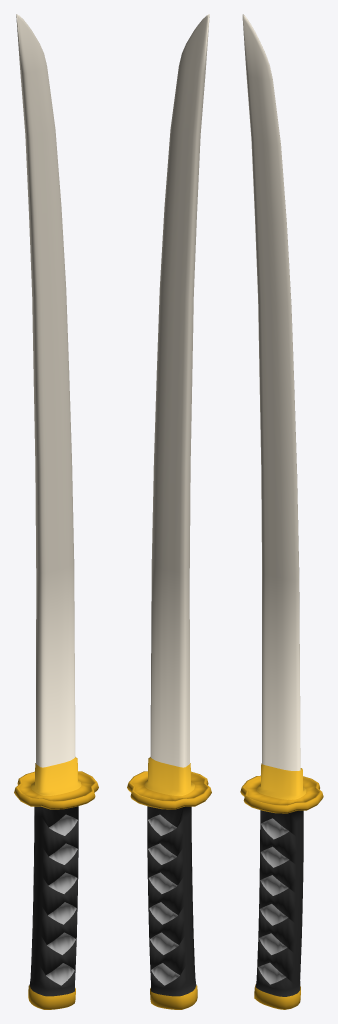
The model's file is Katana.fbx.
The picture shows the model from 3 angles, left to right: view 1: azimuth 30°, elevation 25°; view 2: azimuth 150°, elevation 25°; view 3: azimuth 330°, elevation 25°; orthographic projection.
Visible parts, largest first — view 1: Cube; view 2: Cube; view 3: Cube.
Boxes of the visible parts, x1,y1,x2,y2 form: Cube: (14,14,98,1009); Cube: (127,14,211,1009); Cube: (240,14,323,1009).
Bounding box in the file's own units: 98.31 × 1224 × 88.96.
